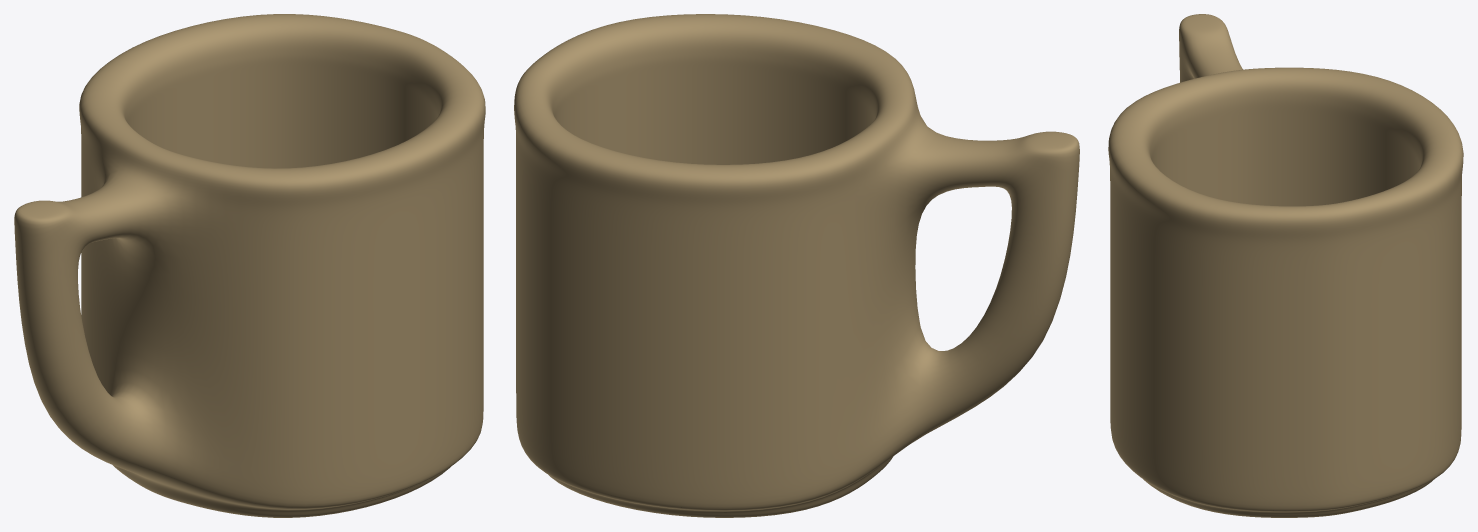
The model's file is coffee-cup.glb.
3 views of the same model, side by side, from view 1: azimuth 30°, elevation 25°; view 2: azimuth 150°, elevation 25°; view 3: azimuth 270°, elevation 25° (orthographic). The views are drawn at different scales.
Visible parts, largest first — view 1: Cube; view 2: Cube; view 3: Cube.
Part boxes in pixels (<box>): Cube: <box>14,14,485,517</box>; Cube: <box>514,14,1079,517</box>; Cube: <box>1108,14,1463,517</box>.
Size of the model in its own units: 5.71 by 3.93 by 4.04.
